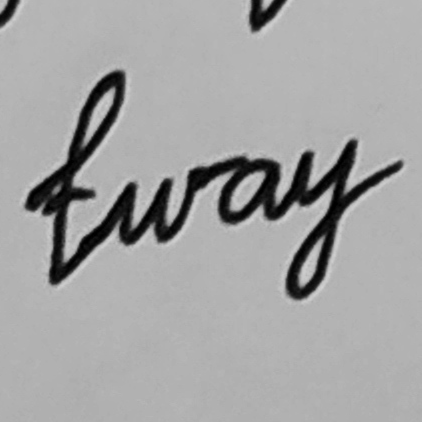a: (212, 153, 283, 227)
t: (33, 68, 131, 289)
w: (111, 161, 204, 249)
y: (278, 132, 364, 303)
